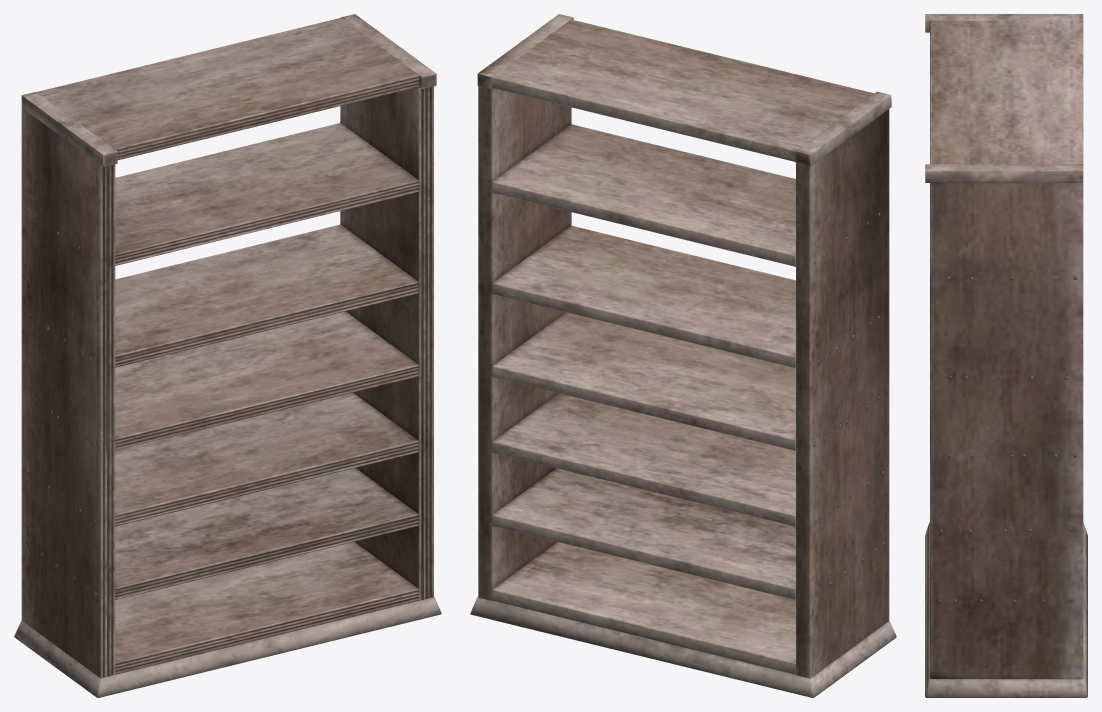
File: wooden_bookshelf_worn.glb
3 views of the same model, side by side, from view 1: azimuth 30°, elevation 25°; view 2: azimuth 150°, elevation 25°; view 3: azimuth 270°, elevation 25° (orthographic). The views are drawn at different scales.
Visible parts, largest first — view 1: wooden_bookshelf_worn; view 2: wooden_bookshelf_worn; view 3: wooden_bookshelf_worn.
Part boxes in pixels (x1,y1,x2,y2): wooden_bookshelf_worn: [14, 14, 441, 697]; wooden_bookshelf_worn: [470, 14, 896, 697]; wooden_bookshelf_worn: [925, 14, 1087, 697].
Size of the model in its own units: 1.37 by 2.06 by 0.5814.
1 material, 1 textured.
